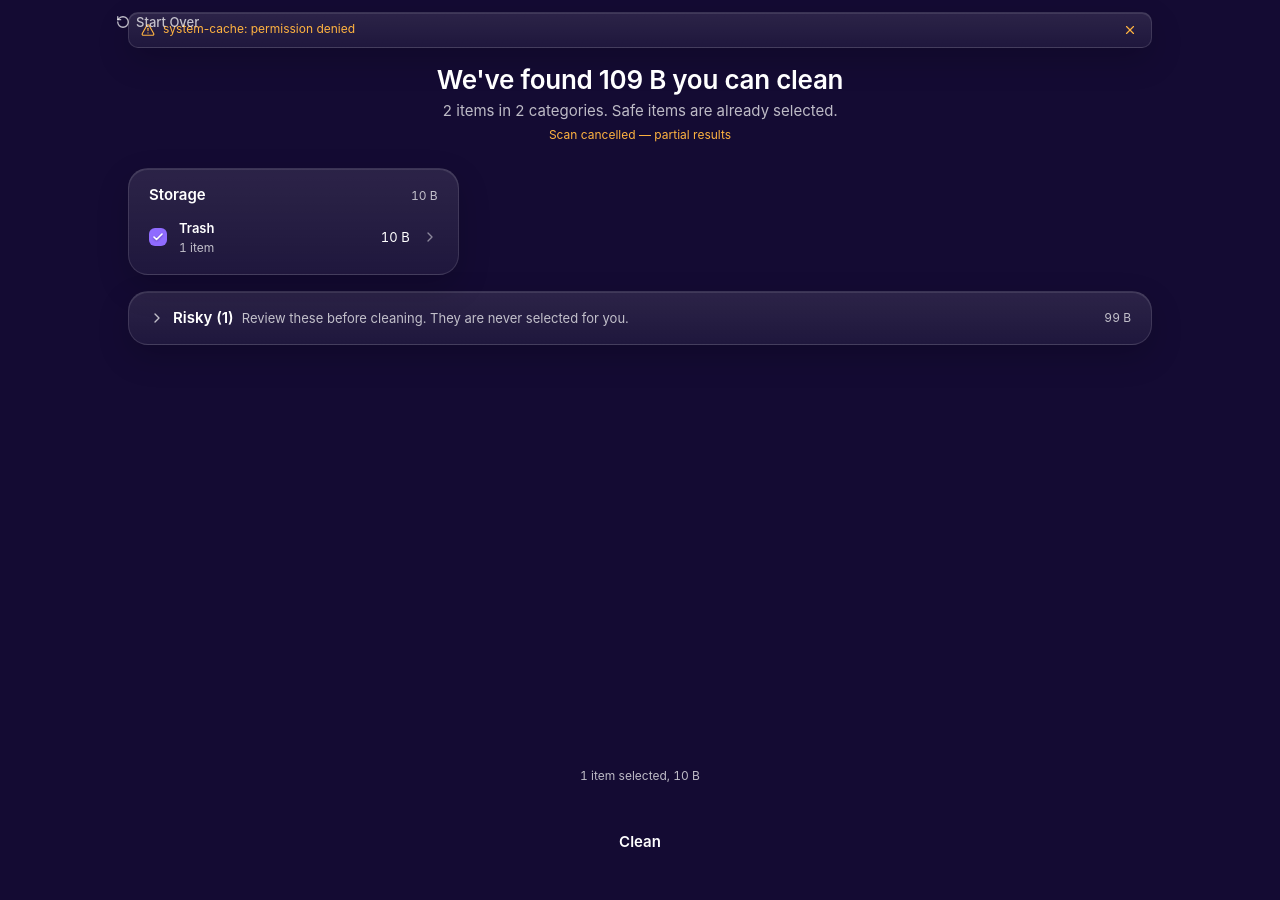
Test: risky group in results state › shows a dismissible scan error banner and a cancelled note
Expected: the text "system-cache: permission denied" is shown, x1=163 y1=21 x2=355 y2=36
Expected: the text "Scan cancelled — partial results" is shown, x1=549 y1=127 x2=731 y2=142
Click the button named "Dismiss scan error" at (1130, 30), box x1=1121 y1=21 x2=1139 y2=39
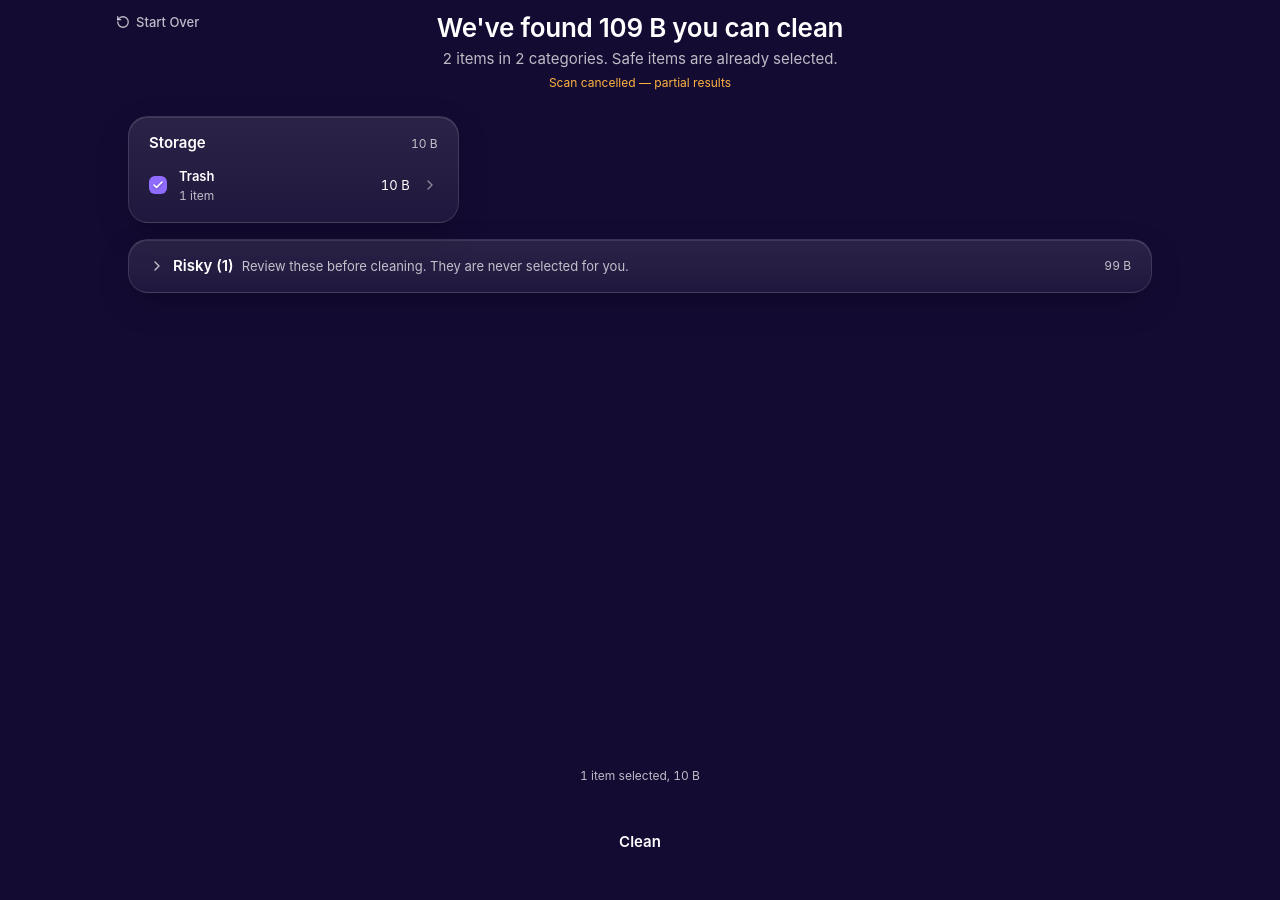
Expected: the text "system-cache: permission denied" is gone
